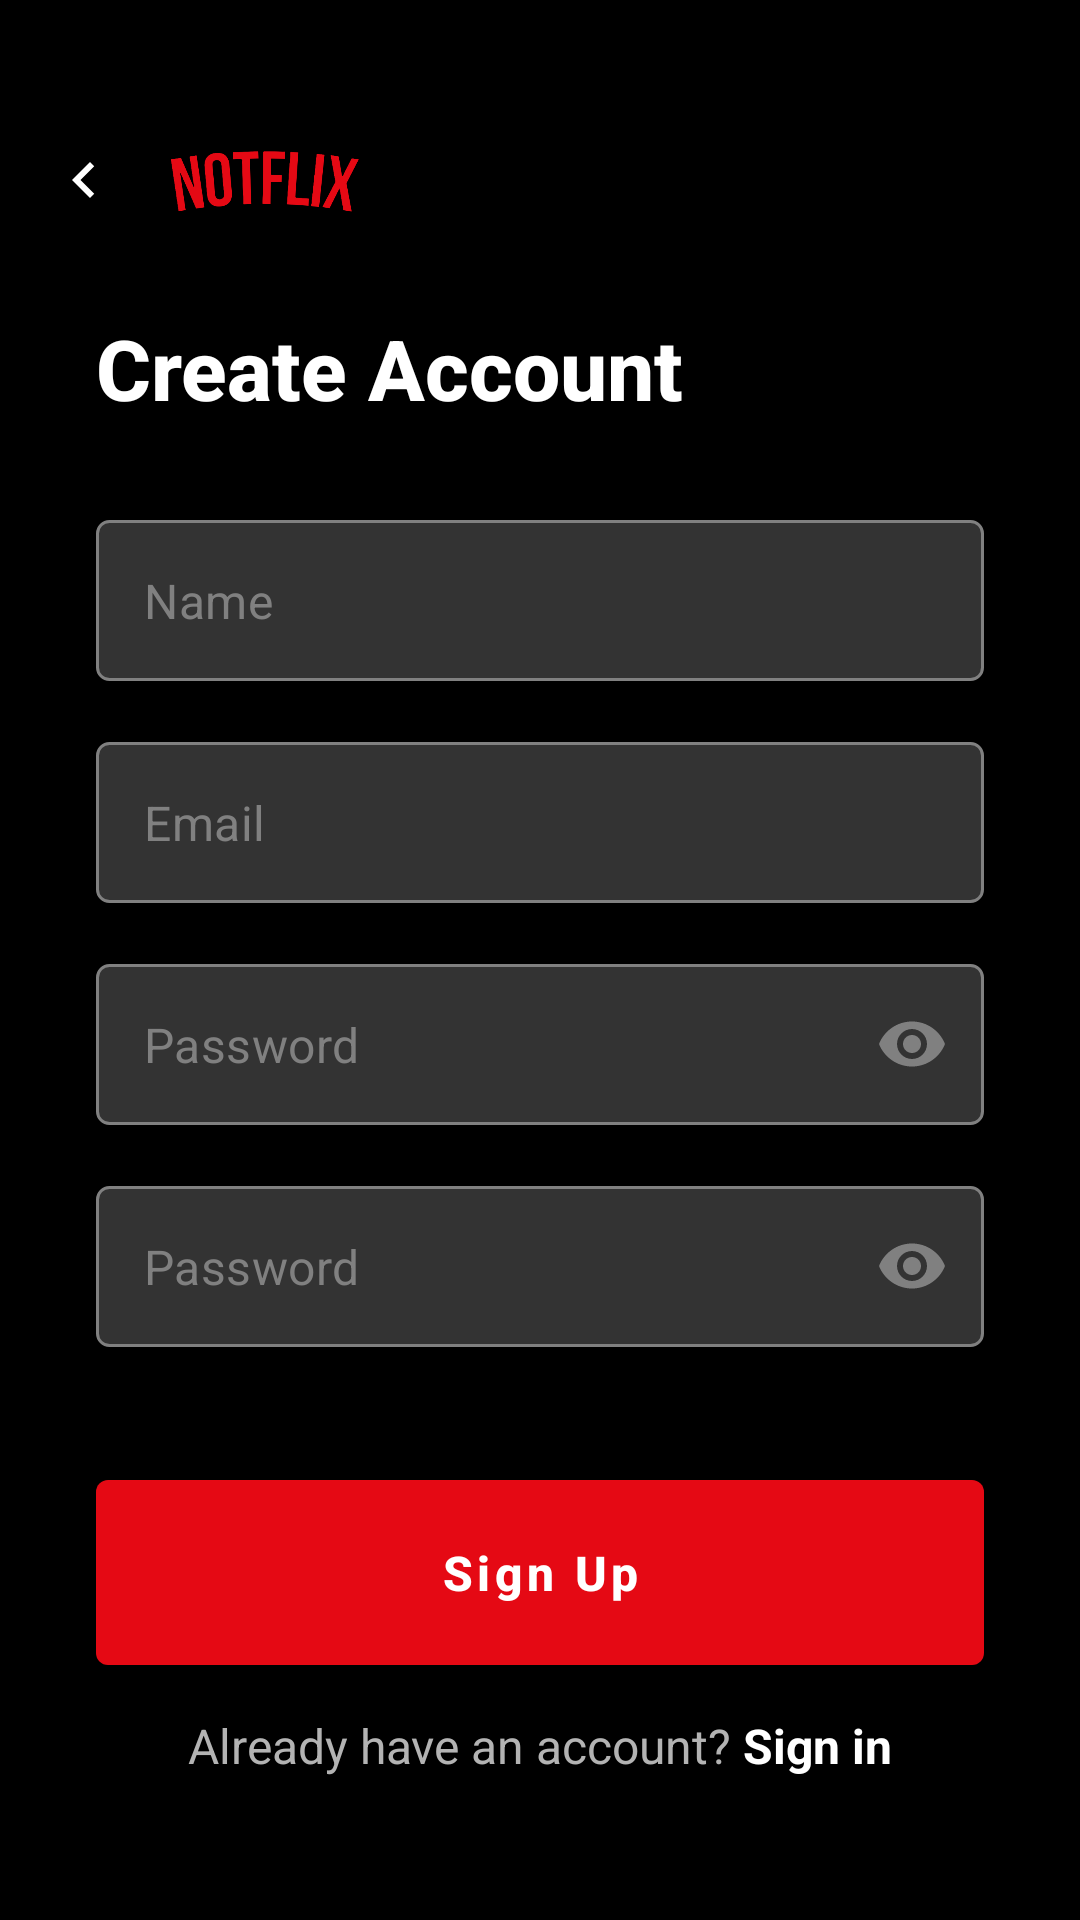

Locate icon controls on the screen. Image size 1080px×1920px, boxes as (x1, y1, x2, y2).
Back: (72, 162, 94, 198)
